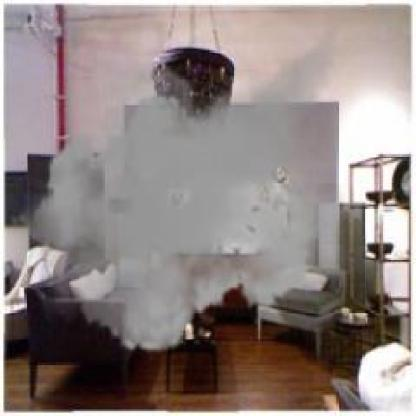Smoke: (10, 2, 349, 362)
